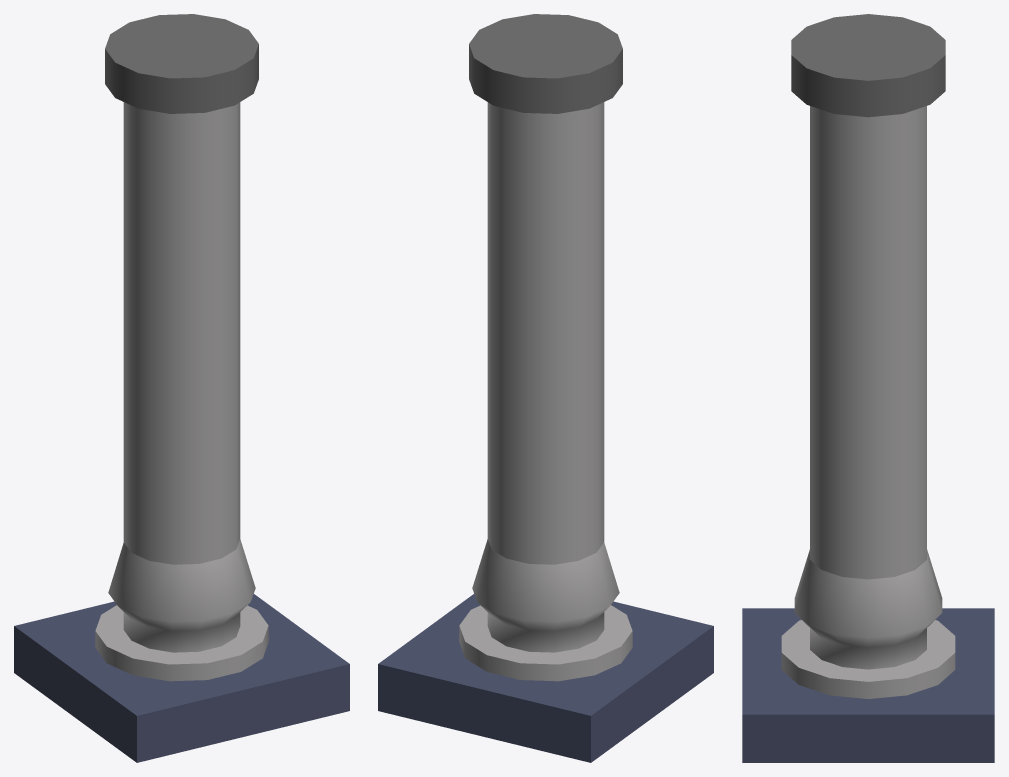
Rendered from Exhausts_Pipe_01.fbx.
3 renders of one model, left to right at view 1: azimuth 30°, elevation 25°; view 2: azimuth 150°, elevation 25°; view 3: azimuth 270°, elevation 25°, orthographic. The views are drawn at different scales.
Visible parts, largest first — view 1: Exhausts_Pipe_01; view 2: Exhausts_Pipe_01; view 3: Exhausts_Pipe_01.
Part boxes in pixels (x1,y1,x2,y2): Exhausts_Pipe_01: (14, 14, 349, 762); Exhausts_Pipe_01: (378, 14, 713, 762); Exhausts_Pipe_01: (742, 14, 994, 762).
Size of the model in its own units: 161 by 466 by 161.
